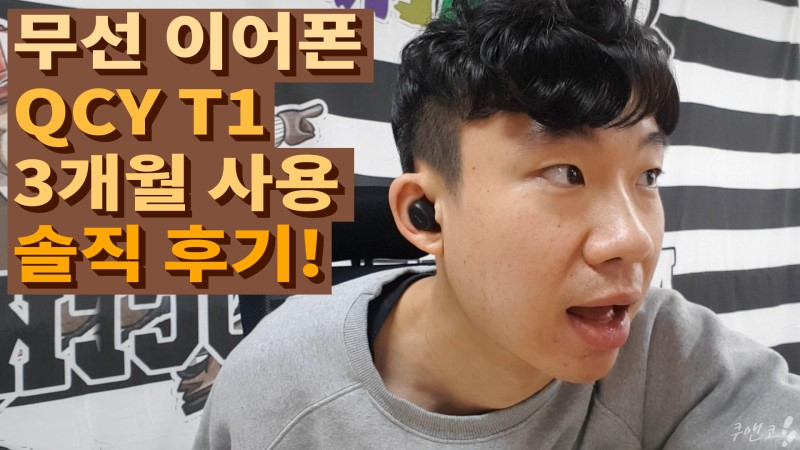earphone: (388, 173, 455, 255)
